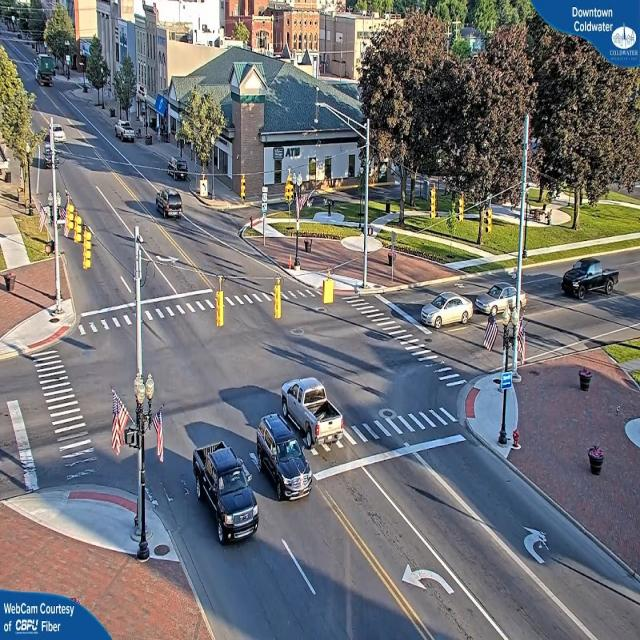car: (188, 443, 260, 547), (256, 413, 313, 503), (282, 378, 331, 445), (560, 260, 616, 298), (417, 294, 474, 329), (478, 283, 526, 315), (156, 188, 183, 220), (116, 123, 136, 143)
